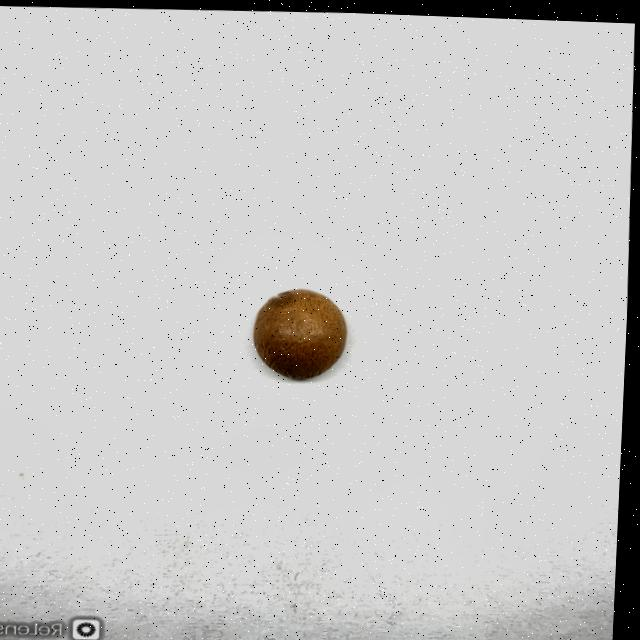Good bean: (255, 284, 352, 378)
